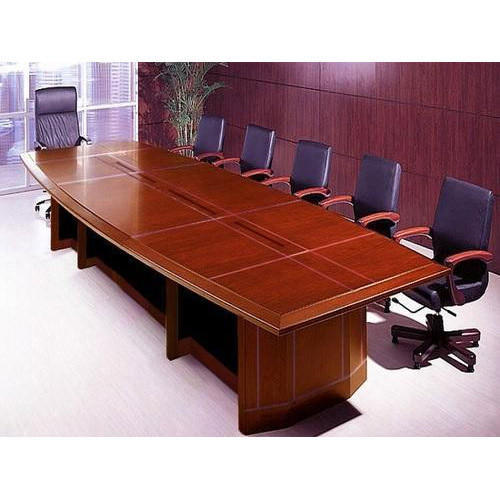conference_table: (21, 141, 452, 435)
